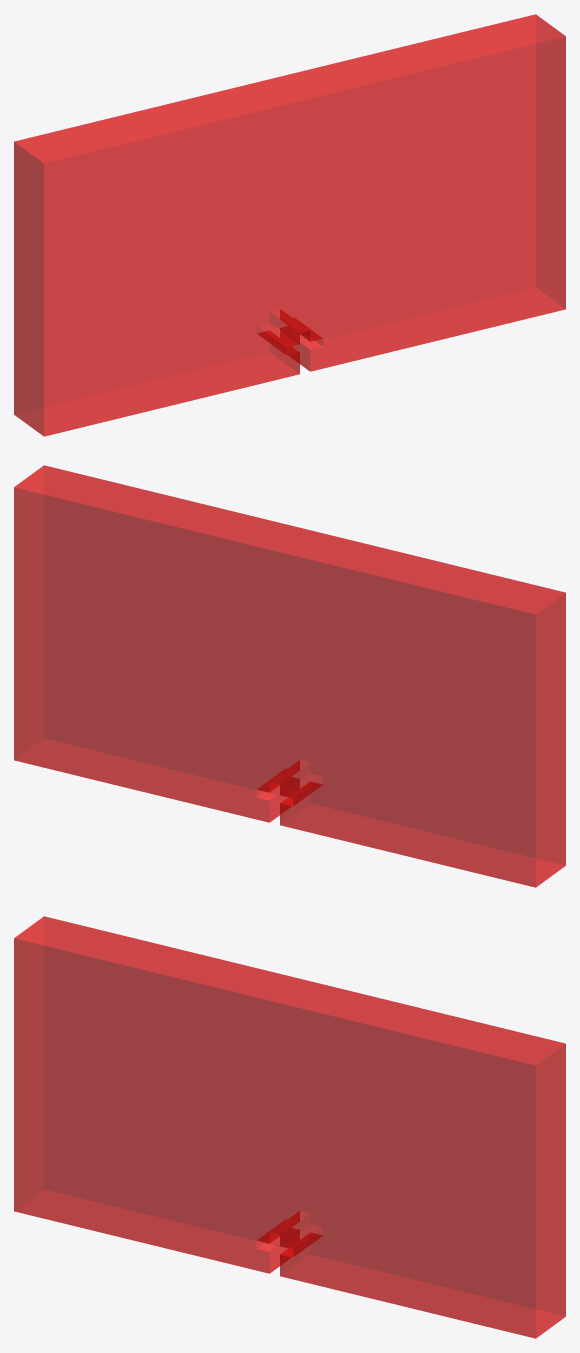
File: Walls1.glb
3 renders of one model, top to bottom at view 1: azimuth 30°, elevation 25°; view 2: azimuth 150°, elevation 25°; view 3: azimuth 330°, elevation 25°, orthographic.
Parts seen in each view (by area): view 1: Cube; view 2: Cube; view 3: Cube.
Boxes of the visible parts, x1,y1,x2,y2 form: Cube: [14, 14, 565, 436]; Cube: [14, 465, 565, 887]; Cube: [14, 916, 565, 1338].
Bounding box in the file's own units: 20 × 10 × 2.
